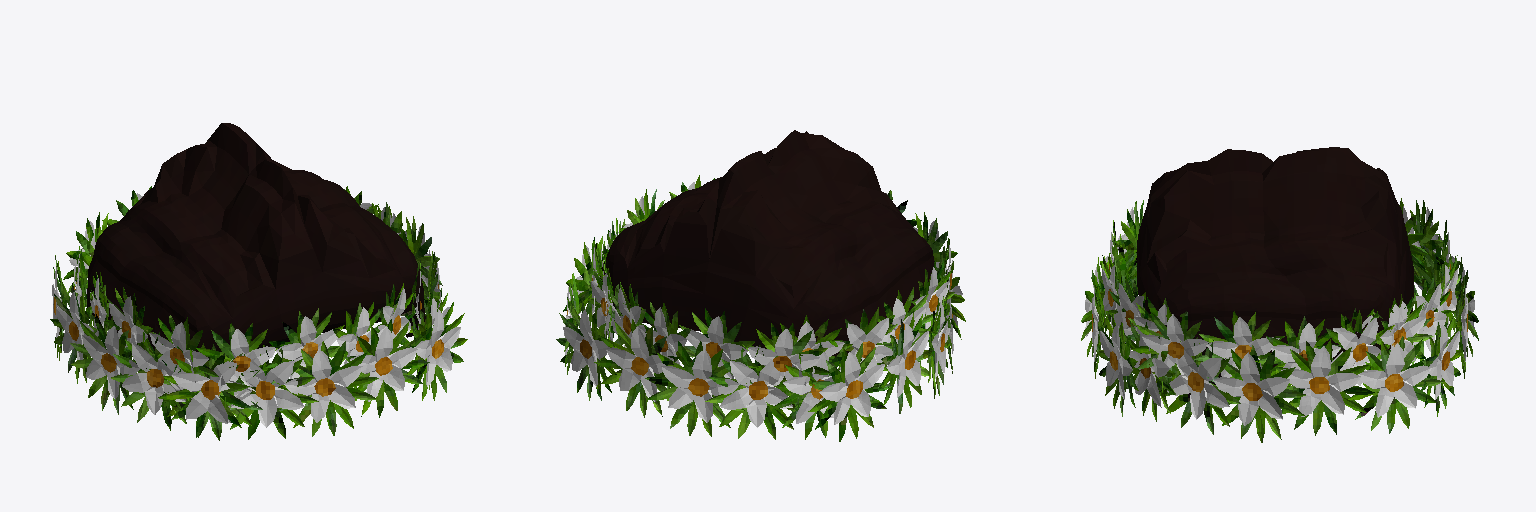
3 renders of one model, left to right at view 1: azimuth 30°, elevation 25°; view 2: azimuth 150°, elevation 25°; view 3: azimuth 270°, elevation 25°, orthographic.
Visible parts, largest first — view 1: flower_crown.obj; view 2: flower_crown.obj; view 3: flower_crown.obj.
Boxes of the visible parts, <box> form: flower_crown.obj: <box>50,123,467,440</box>; flower_crown.obj: <box>556,130,965,441</box>; flower_crown.obj: <box>1081,147,1478,442</box>.
Size of the model in its own units: 17.65 by 10.69 by 17.65.
2 materials, 2 textured.